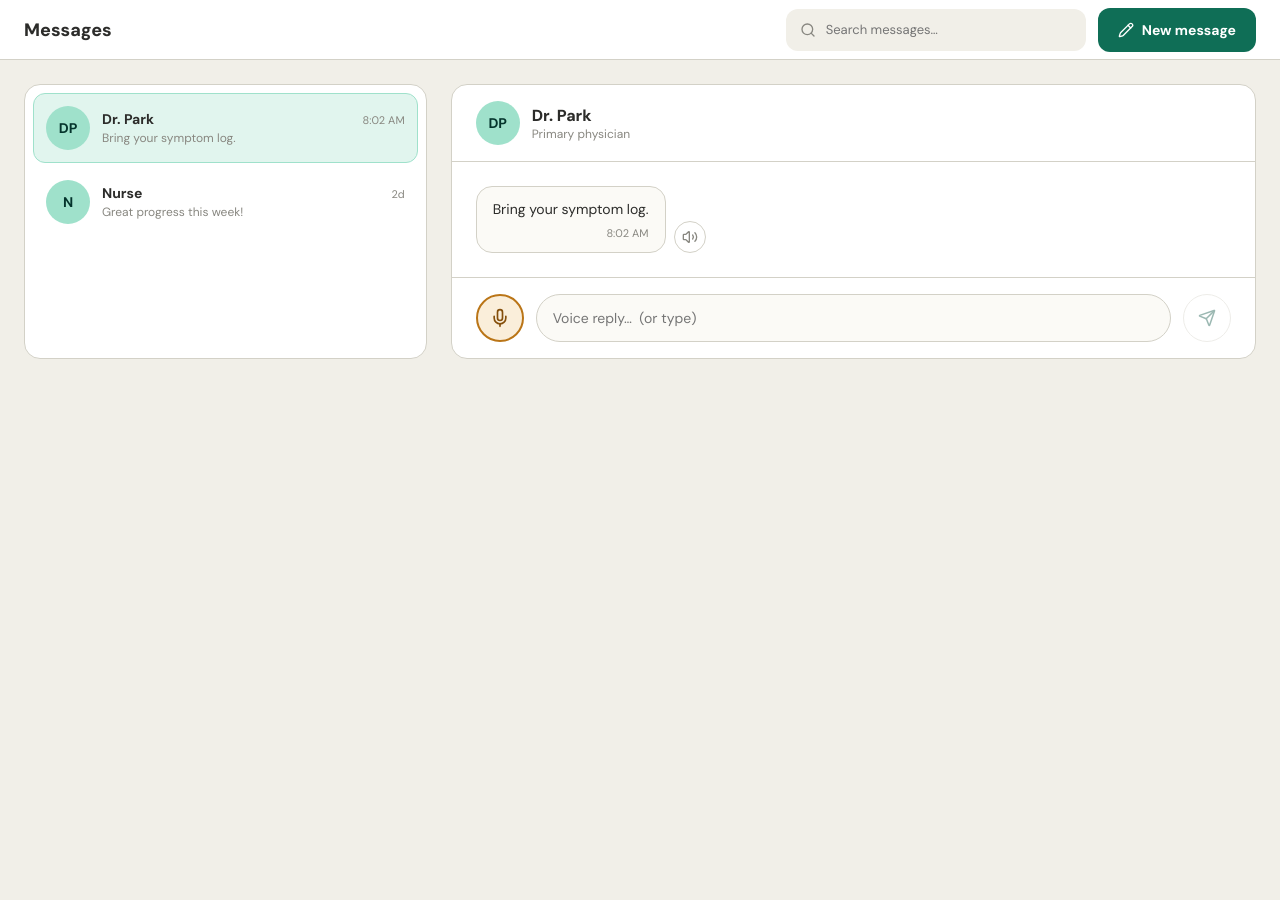
Test: MessagesScreen › composes a new message from the dialog
The image size is (1280, 900).
Expected: the list named "Conversations" is shown, [24,84,427,359]
Click the button "New message".
click(1177, 30)  # box [1098,8,1256,52]
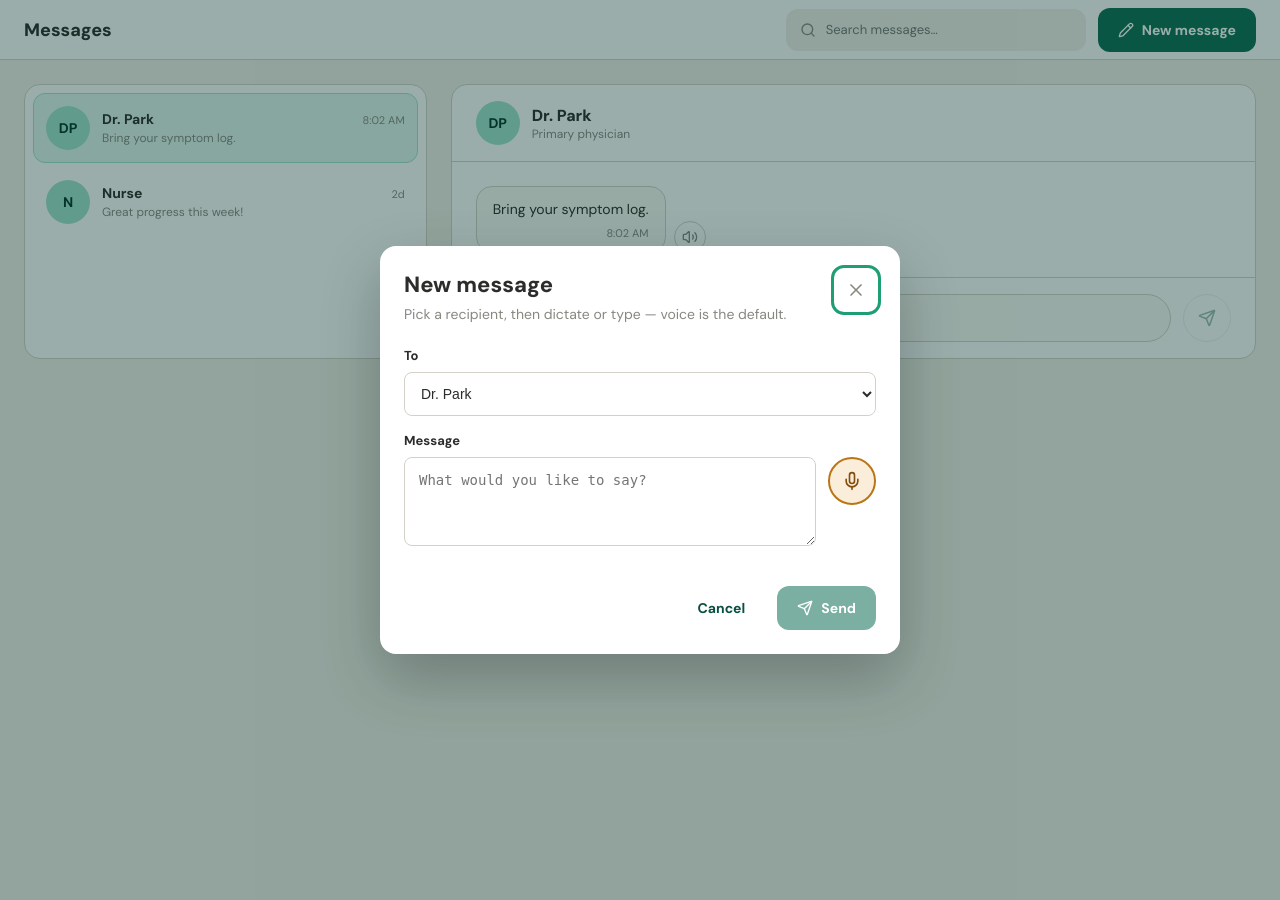
Now the button "Send" is disabled, box [777,586,876,630]
Select "Nurse" in the dropdown labelled "To" at (640, 394), box [404,372,876,416]
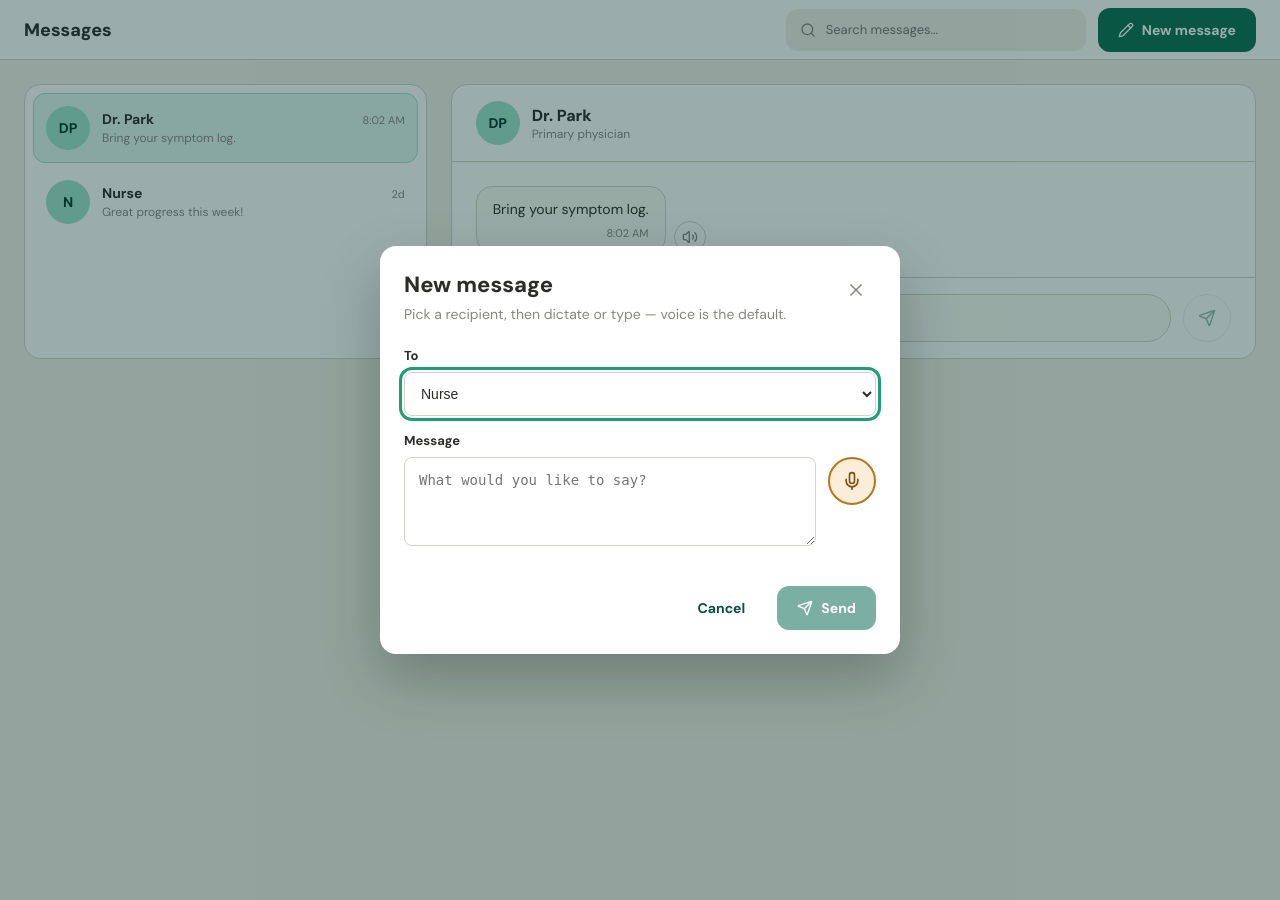
Type "Thank you!" into the text box labelled "Message".
click(610, 502); type("Thank you!")  # box [404,457,816,546]
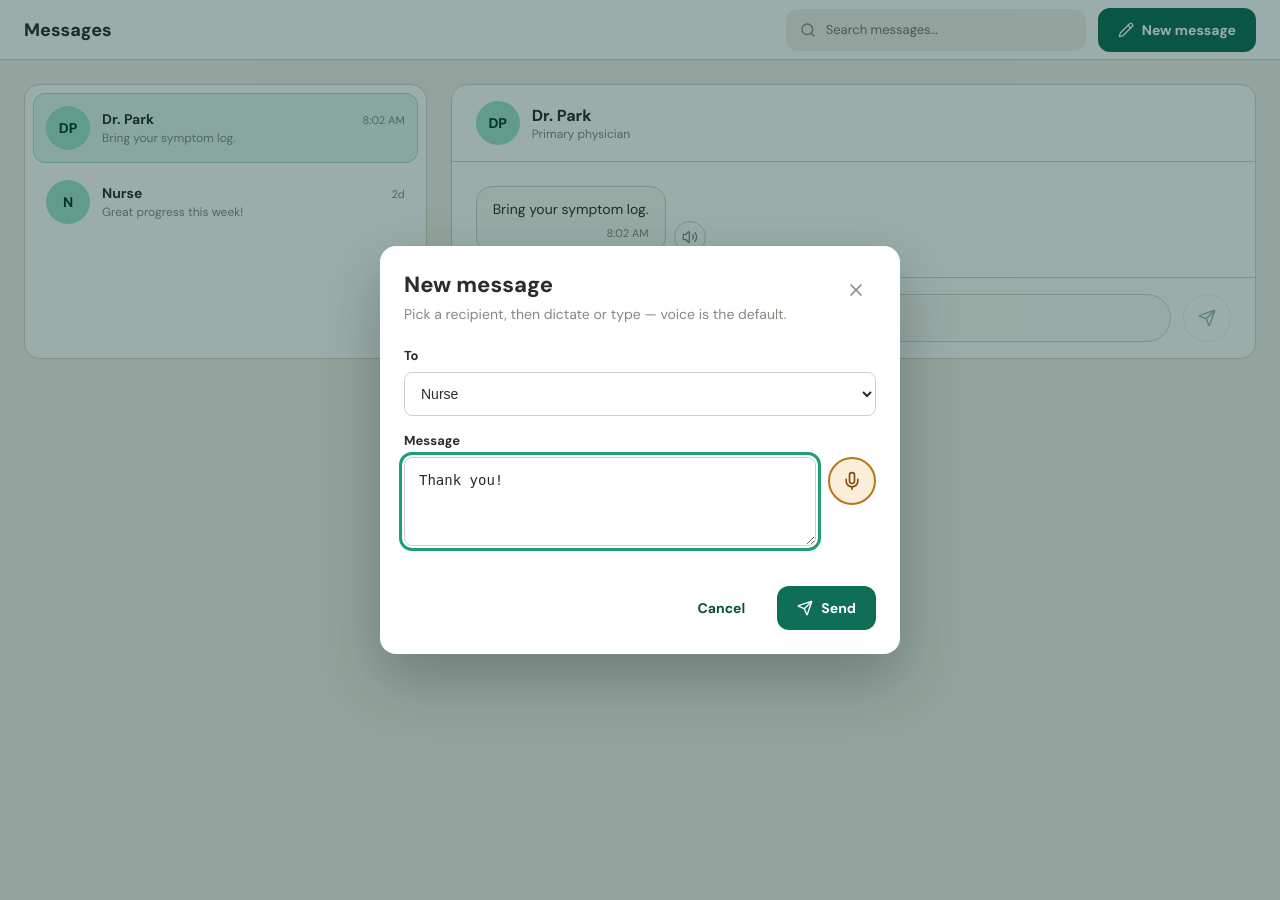
Click the button "Send".
click(827, 608)  # box [777,586,876,630]
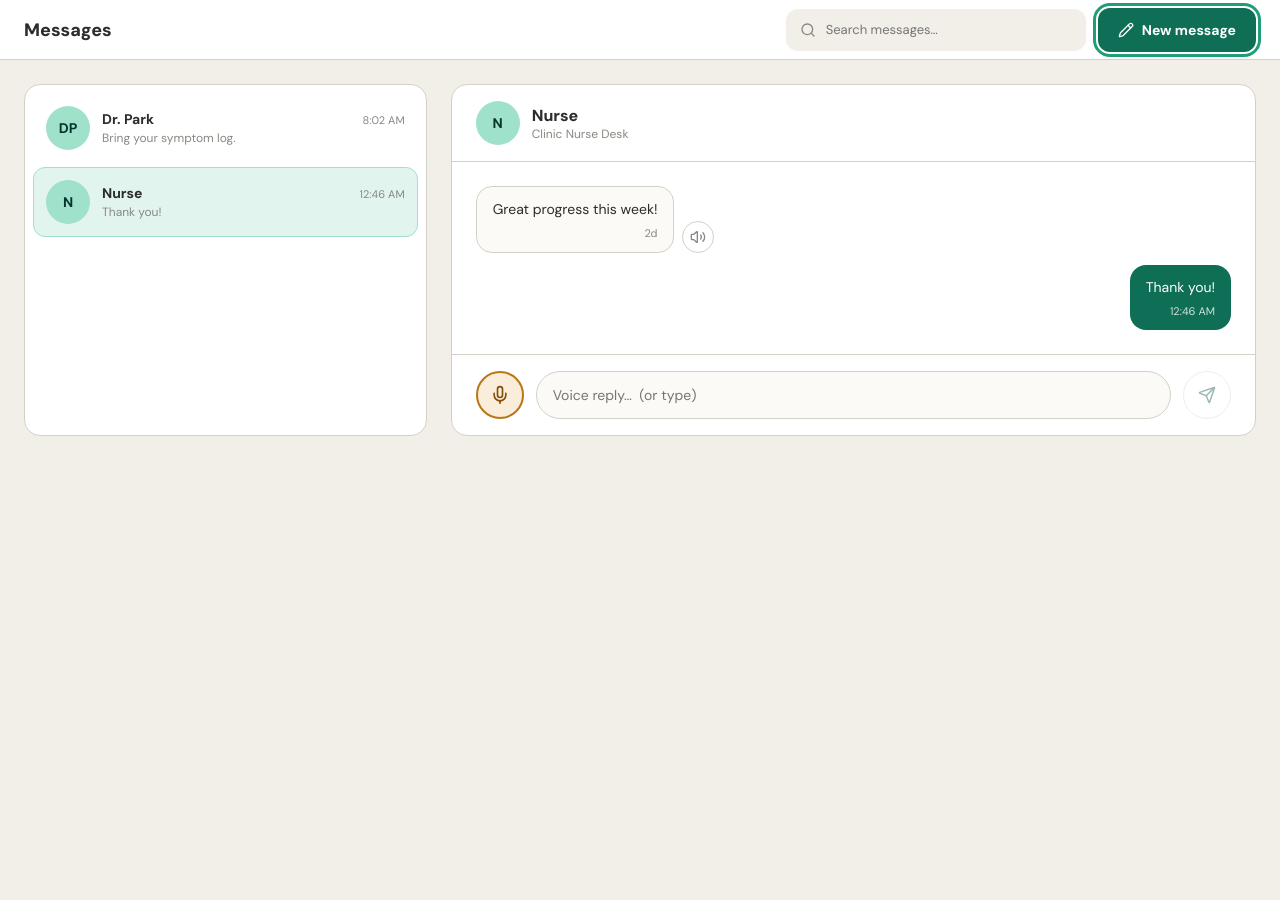
Now the dialog is gone
Now the 1st text "Thank you!" is shown, box [102,204,161,220]
